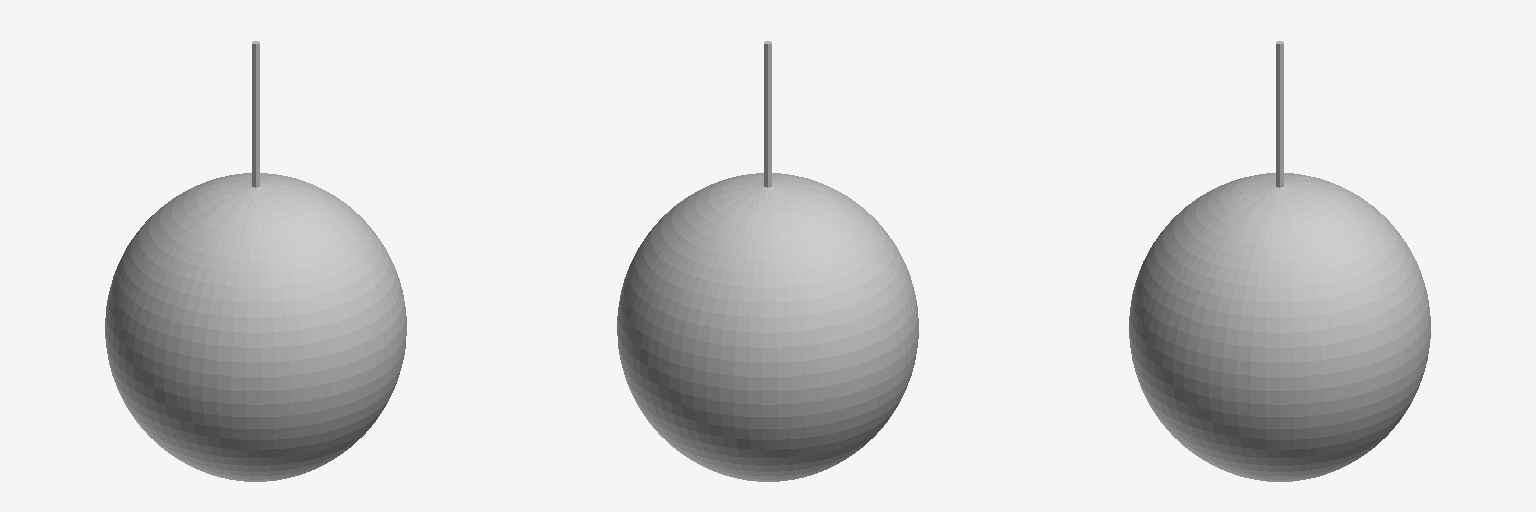
Rendered from bomb.obj.
3 renders of one model, left to right at view 1: azimuth 30°, elevation 25°; view 2: azimuth 150°, elevation 25°; view 3: azimuth 270°, elevation 25°, orthographic.
Visible parts, largest first — view 1: Sphere.001, NurbsPath.001_Mesh.001; view 2: Sphere.001, NurbsPath.001_Mesh.001; view 3: Sphere.001, NurbsPath.001_Mesh.001.
Boxes of the visible parts, <box> form: Sphere.001: <box>105,173,406,481</box>; NurbsPath.001_Mesh.001: <box>252,41,259,187</box>; Sphere.001: <box>617,173,918,481</box>; NurbsPath.001_Mesh.001: <box>764,41,771,187</box>; Sphere.001: <box>1129,173,1430,481</box>; NurbsPath.001_Mesh.001: <box>1276,41,1283,187</box>.
Size of the model in its own units: 0.6234 by 0.9715 by 0.6234.